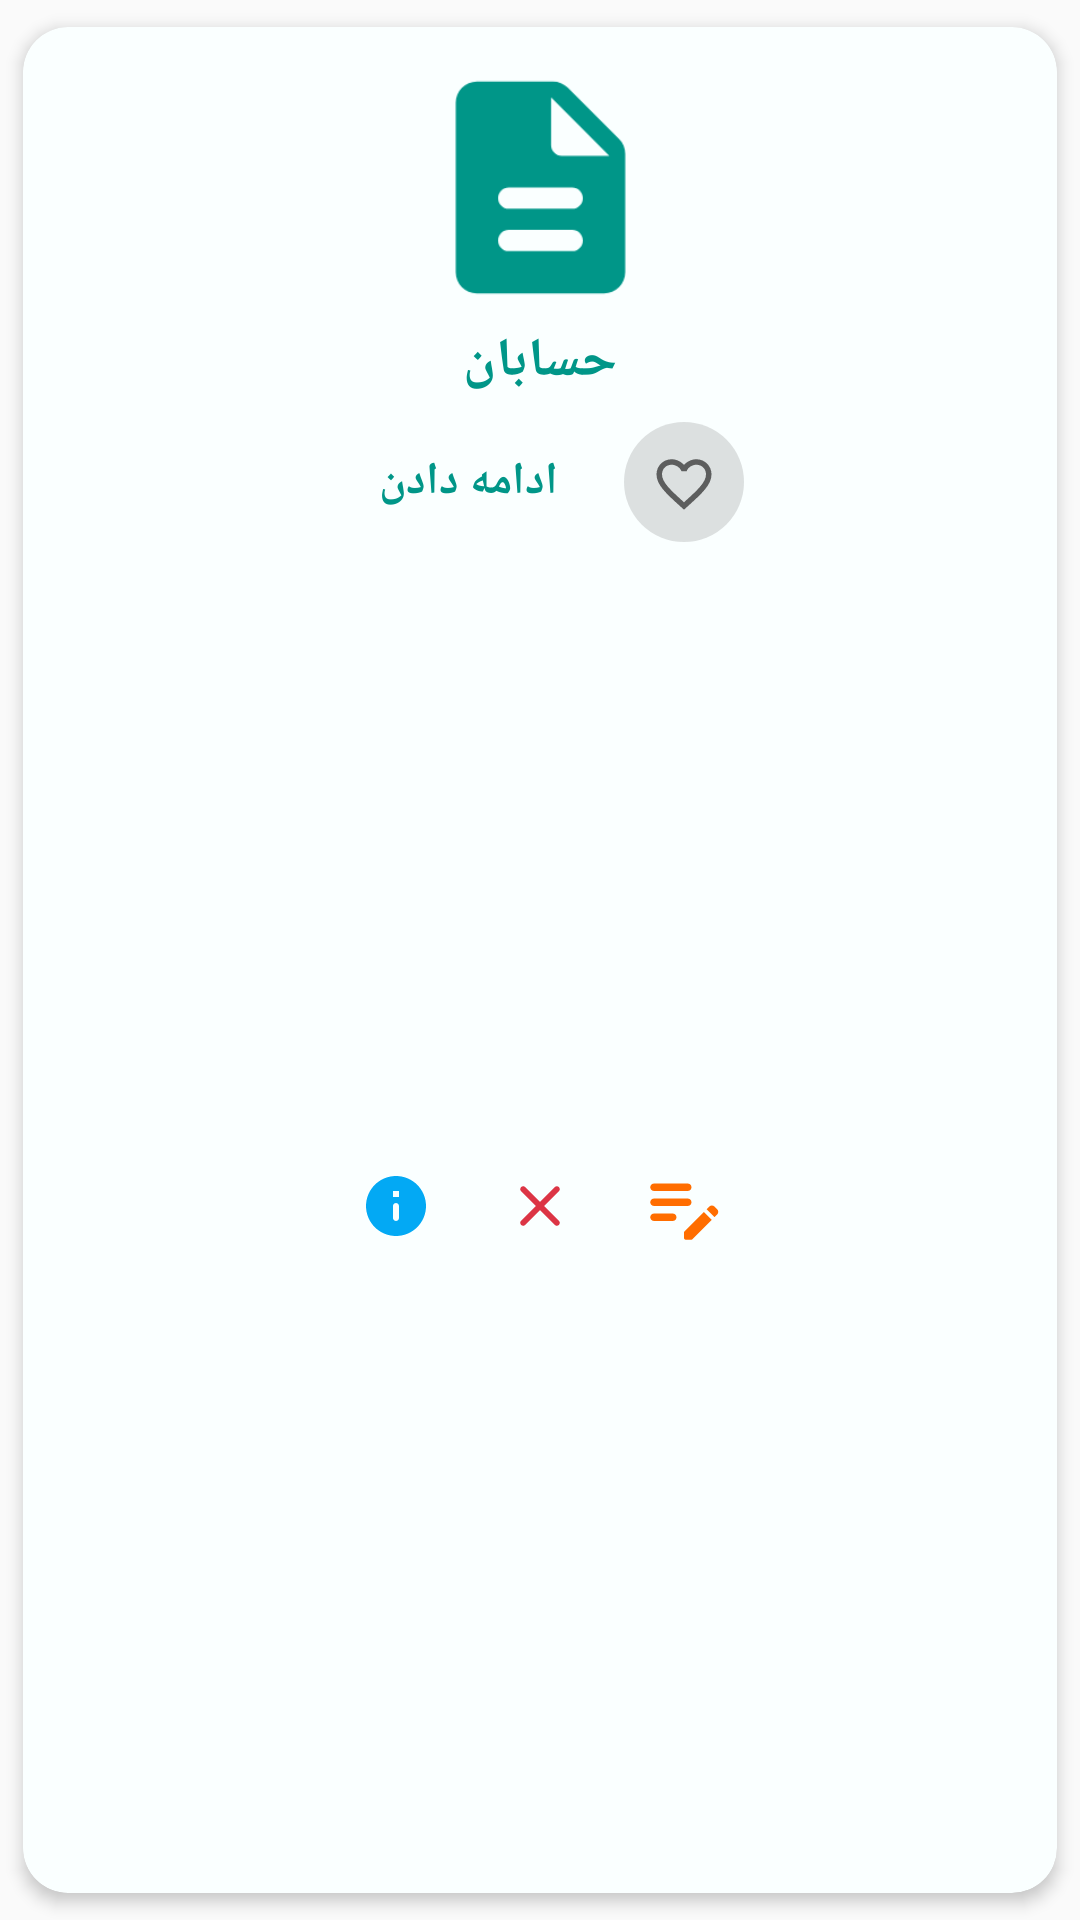

Icons on this 1080*1920 Android screen, each with its box as (x1, y1, x2, y2):
delete choice: (520, 1186, 560, 1226)
edit exam features: (650, 1183, 719, 1240)
info: (366, 1176, 426, 1236)
not favorite: (624, 422, 744, 542)
